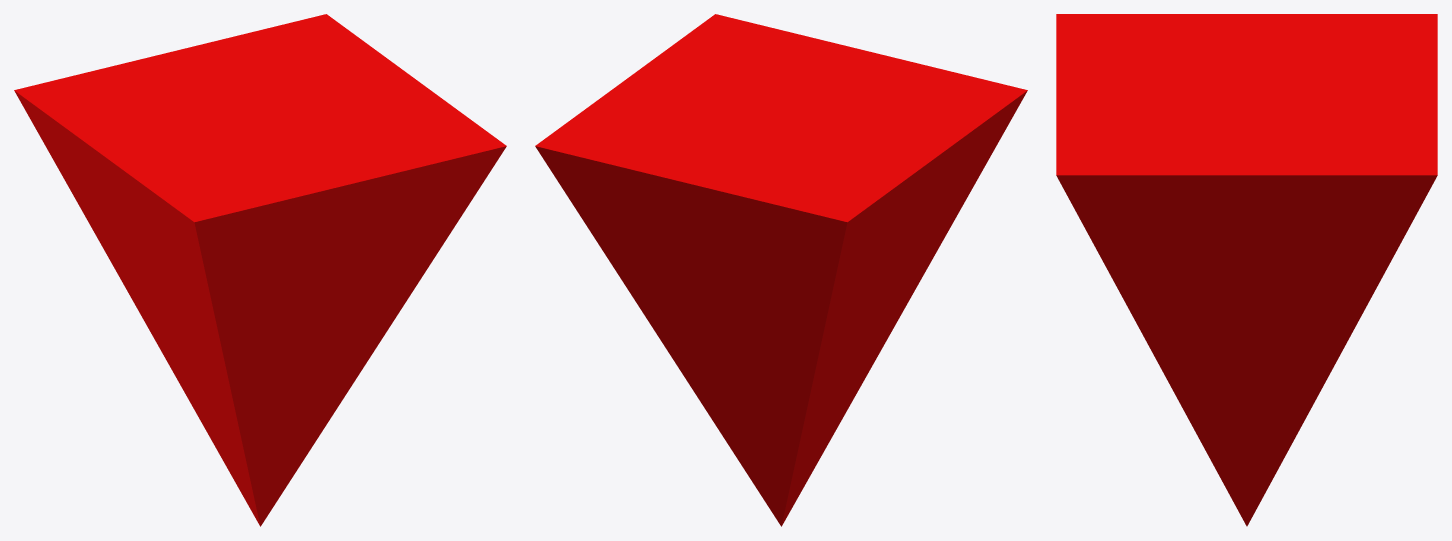
File: Tracker.FBX
3 renders of one model, left to right at view 1: azimuth 30°, elevation 25°; view 2: azimuth 150°, elevation 25°; view 3: azimuth 270°, elevation 25°, orthographic. The views are drawn at different scales.
Parts seen in each view (by area): view 1: Pyramid001; view 2: Pyramid001; view 3: Pyramid001.
Part boxes in pixels (x1,y1,x2,y2): Pyramid001: (14, 14, 506, 526); Pyramid001: (535, 14, 1027, 526); Pyramid001: (1056, 14, 1437, 526).
Size of the model in its own units: 20 by 25 by 20.
